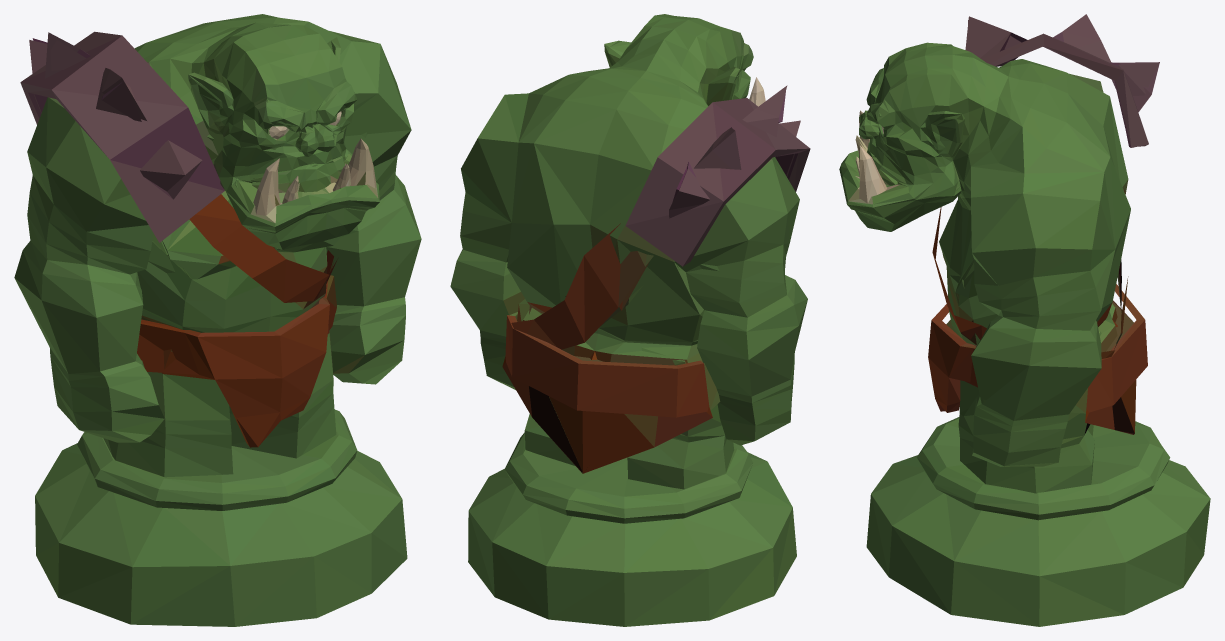
Rendered from orc.glb.
3 views of the same model, side by side, from view 1: azimuth 30°, elevation 25°; view 2: azimuth 150°, elevation 25°; view 3: azimuth 270°, elevation 25° (orthographic). The views are drawn at different scales.
Parts seen in each view (by area): view 1: mesh_node; view 2: mesh_node; view 3: mesh_node.
Boxes of the visible parts, box(x1,y1,x2,y2) form: mesh_node: box(14, 14, 421, 626); mesh_node: box(450, 14, 810, 626); mesh_node: box(839, 14, 1210, 626).
Bounding box in the file's own units: 0.6837 × 1 × 0.6699.
